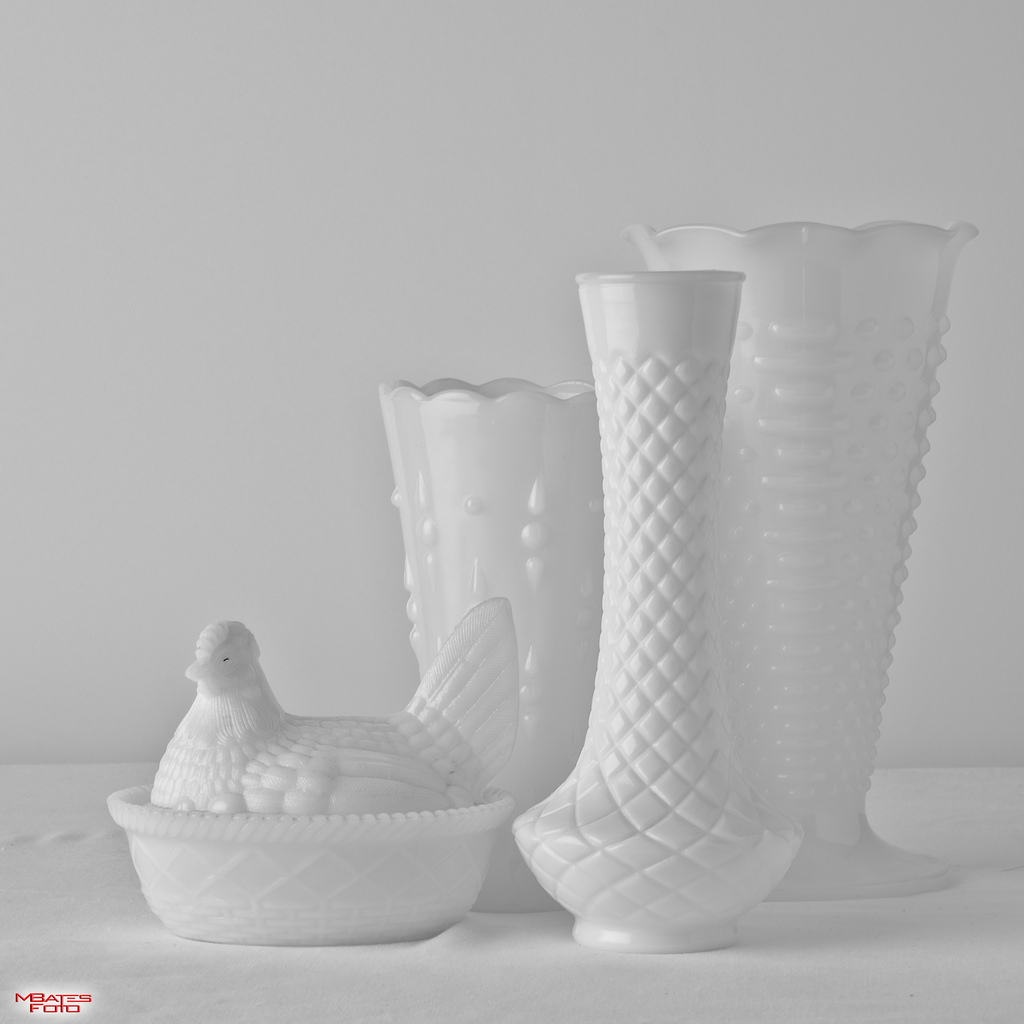glass of milk: (570, 271, 791, 955)
